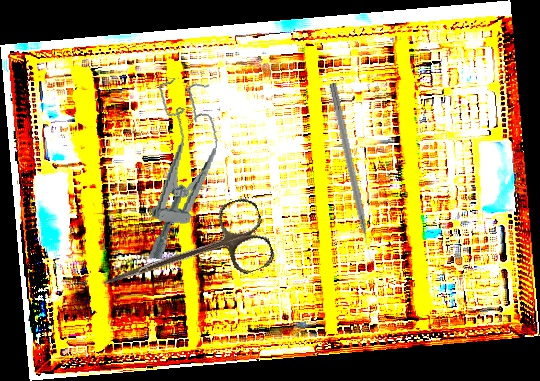Iris Scissors: (92, 194, 278, 321)
Pusher: (326, 82, 375, 262)
Speculum: (135, 76, 226, 265)
